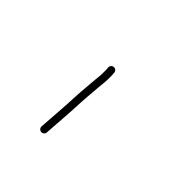t: (32, 55, 139, 150)
